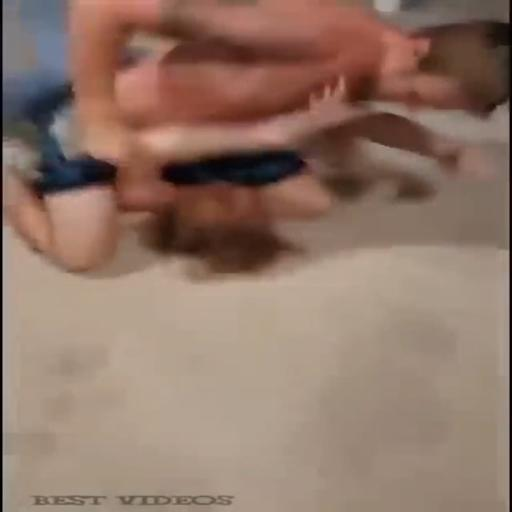violencia: (0, 0, 512, 301)
